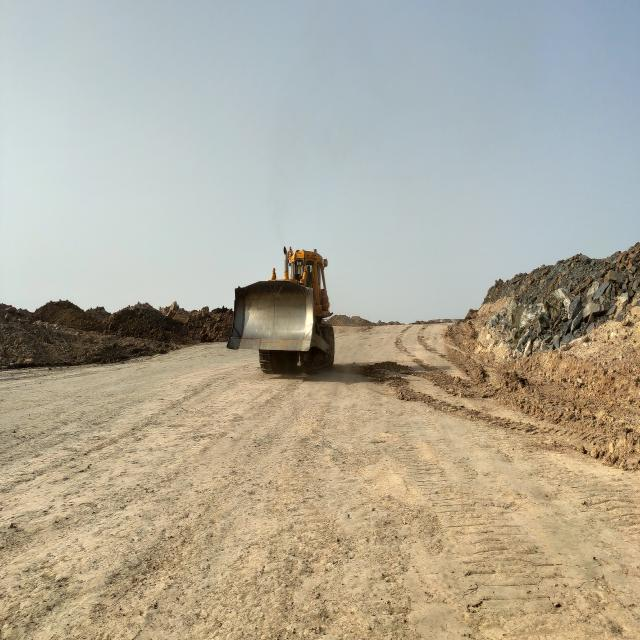buldozerpayloadergrader: (228, 249, 335, 373)
